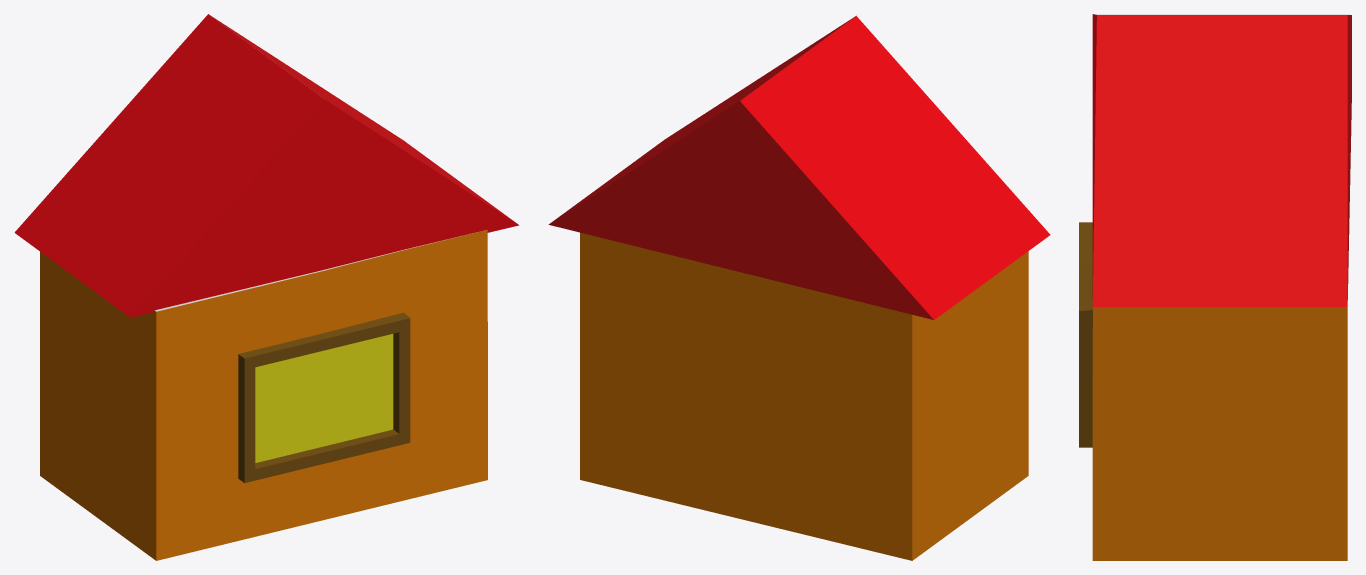
File: house.fbx
3 views of the same model, side by side, from view 1: azimuth 30°, elevation 25°; view 2: azimuth 150°, elevation 25°; view 3: azimuth 270°, elevation 25° (orthographic). The views are drawn at different scales.
Parts seen in each view (by area): view 1: Cube; view 2: Cube; view 3: Cube.
Part boxes in pixels (x1,y1,x2,y2): Cube: (14,14,518,560); Cube: (548,15,1050,560); Cube: (1079,14,1351,560).
Bounding box in the file's own units: 385 × 398 × 214.
